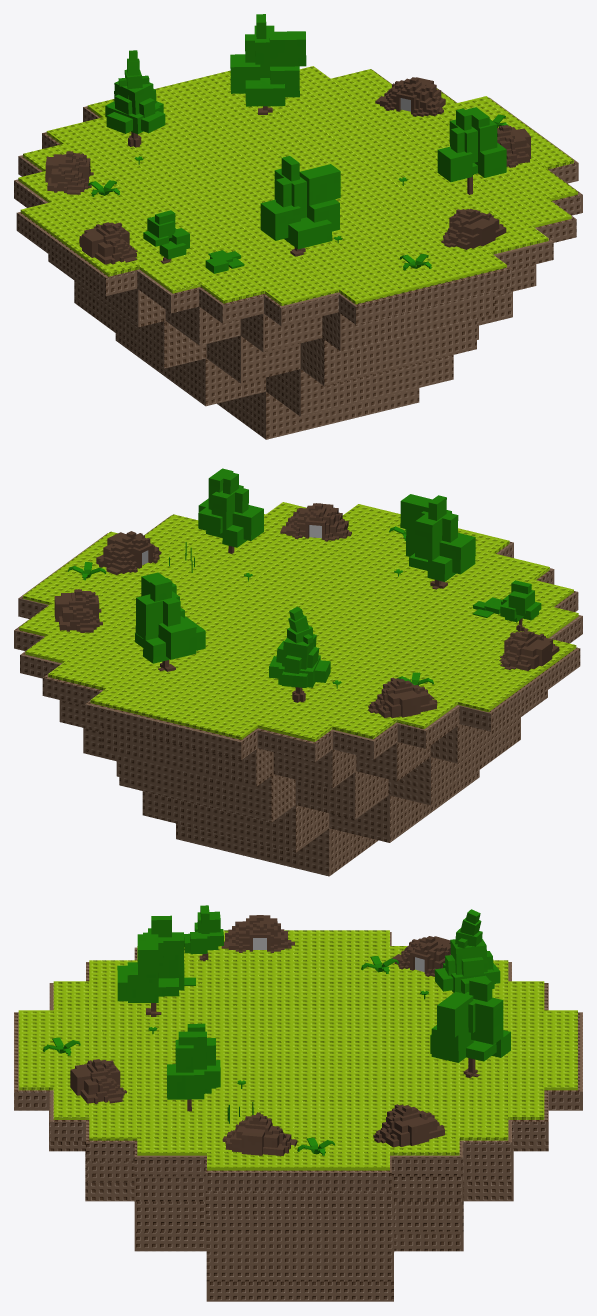
File: Map.fbx
3 views of the same model, one above another, from view 1: azimuth 30°, elevation 25°; view 2: azimuth 150°, elevation 25°; view 3: azimuth 270°, elevation 25° (orthographic). The views are drawn at different scales.
Parts seen in each view (by area): view 1: grass, dirt, Tree2, Tree, Tree4, Tree1, polySurface3950, polySurface4000, polySurface3952, polySurface3967, Tree3, polySurface3983 (+1 smaller); view 2: grass, dirt, Tree2, Tree, Tree4, Tree1, polySurface3967, polySurface3983, polySurface3950, polySurface3952, polySurface4000, Tree3; view 3: grass, dirt, Tree, Tree2, Tree4, Tree1, polySurface3983, polySurface4000, polySurface3950, polySurface3952, polySurface3967, Tree3.
Part boxes in pixels (<box>): grass: <box>18,66,577,305</box>; dirt: <box>14,67,582,439</box>; Tree2: <box>260,156,340,256</box>; Tree: <box>230,14,306,114</box>; Tree4: <box>437,107,506,194</box>; Tree1: <box>105,50,165,147</box>; polySurface3950: <box>441,208,506,249</box>; polySurface4000: <box>375,77,445,116</box>; polySurface3952: <box>79,222,137,264</box>; polySurface3967: <box>45,151,93,194</box>; Tree3: <box>143,210,189,263</box>; polySurface3983: <box>497,125,530,167</box>; grass: <box>19,502,578,741</box>; dirt: <box>14,515,582,876</box>; Tree2: <box>400,494,475,589</box>; Tree: <box>134,572,205,671</box>; Tree4: <box>198,468,263,553</box>; Tree1: <box>269,606,330,702</box>; polySurface3967: <box>368,677,437,718</box>; polySurface3983: <box>96,531,161,575</box>; polySurface3950: <box>280,503,351,541</box>; polySurface3952: <box>499,630,559,670</box>; polySurface4000: <box>54,589,102,632</box>; Tree3: <box>500,580,541,631</box>; grass: <box>18,930,577,1170</box>; dirt: <box>14,932,582,1301</box>; Tree: <box>430,977,510,1077</box>; Tree2: <box>117,915,184,1016</box>; Tree4: <box>167,1023,220,1111</box>; Tree1: <box>434,909,500,993</box>; polySurface3983: <box>222,1112,297,1155</box>; polySurface4000: <box>373,1104,444,1147</box>; polySurface3950: <box>70,1059,126,1103</box>; polySurface3952: <box>221,915,294,952</box>; polySurface3967: <box>392,936,450,976</box>; Tree3: <box>184,905,223,961</box>.
Bounding box in the file's own units: 16287 × 9771 × 16283.
Materials: 6 (5 with a texture image).
